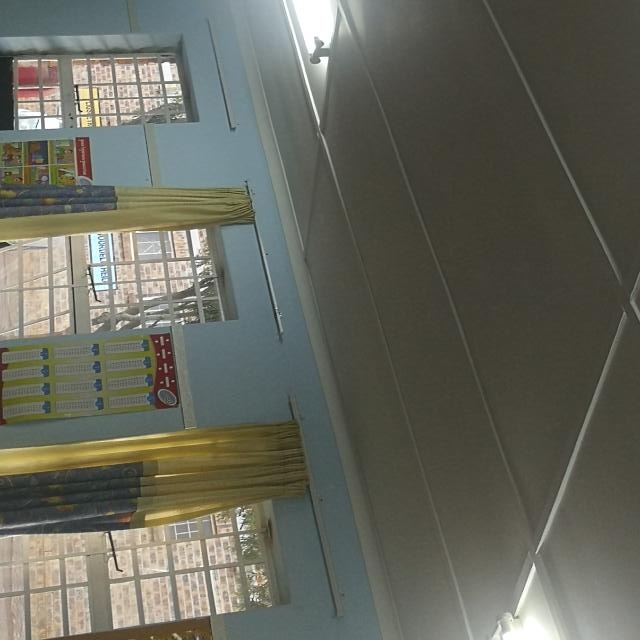fluorescent tube: (233, 0, 362, 76), (474, 558, 562, 640)
